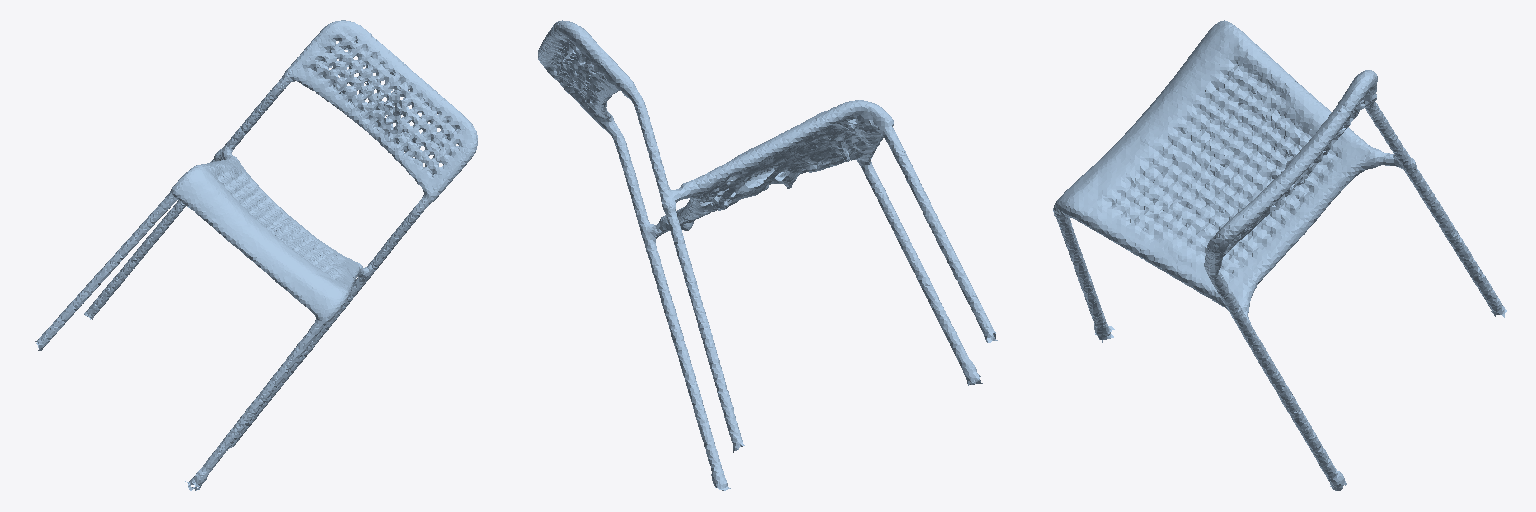
URDF robot description (whitechair.urdf):
<?xml version="1.0" ?>
<robot name="whitechair.urdf">
  <dynamics damping="0.5" friction="0.9"/>
  <link name="baseLink">
    <contact>
      <lateral_friction value="0.9"/>
      <rolling_friction value="0.5"/>
      <stiffness value="30000"/>
      <damping value="1000"/>
    </contact>
    <visual>
      <origin rpy="0 0 0" xyz="0 0 0"/>
      <geometry>
        <mesh filename="objects/whitechair/whitechair.obj" scale="1.0 1.0 1.0"/>
      </geometry>
       <material name="mat">
        <color rgba="0.7 0.8 0.9 1"/>
      </material>
    </visual>
    <collision>
      <origin rpy="0 0 0" xyz="0 0 0"/>
      <geometry>
	 	<mesh filename="objects/whitechair/whitechair.obj" scale="1.0 1.0 1.0"/>
      </geometry>
    </collision>
  </link>
</robot>

--- Render facts (derived) ---
3 views of the same robot in one strip: view 1: azimuth 30°, elevation 25°; view 2: azimuth 150°, elevation 25°; view 3: azimuth 270°, elevation 25° (orthographic).
Robot: whitechair.urdf — 1 links, 0 joints (none); root link baseLink; default pose: all joints at 0.
Links seen in each view (by area): view 1: baseLink; view 2: baseLink; view 3: baseLink.
Boxes of the visible links, x1,y1,x2,y2 form: baseLink: (35, 20, 477, 490); baseLink: (538, 20, 997, 490); baseLink: (1053, 20, 1506, 490).
Size in the robot's own frame: 0.9227 by 0.6821 by 0.8141 metres.
Meshes: 1 distinct files referenced, 1 mesh visuals loaded (1 OBJ).